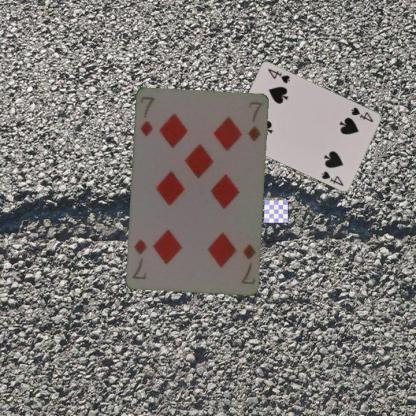4s: (349, 105, 375, 123)
7d: (238, 240, 257, 286), (137, 94, 156, 138)
